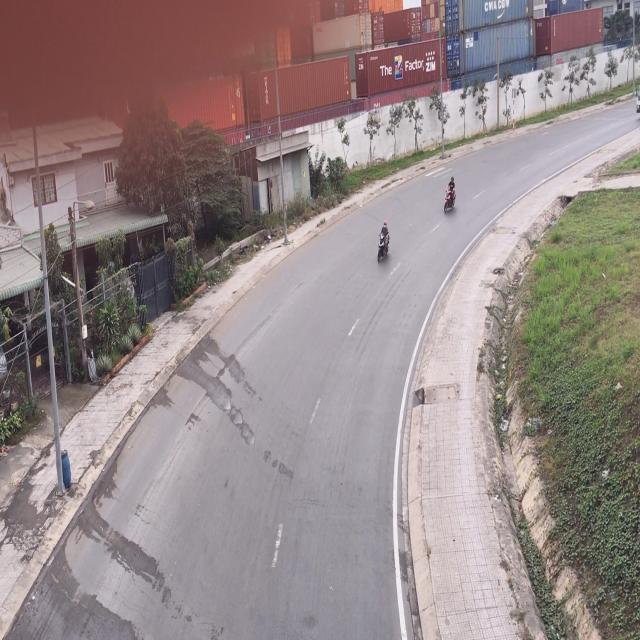motorbike: (376, 222, 393, 268), (442, 174, 458, 216)
